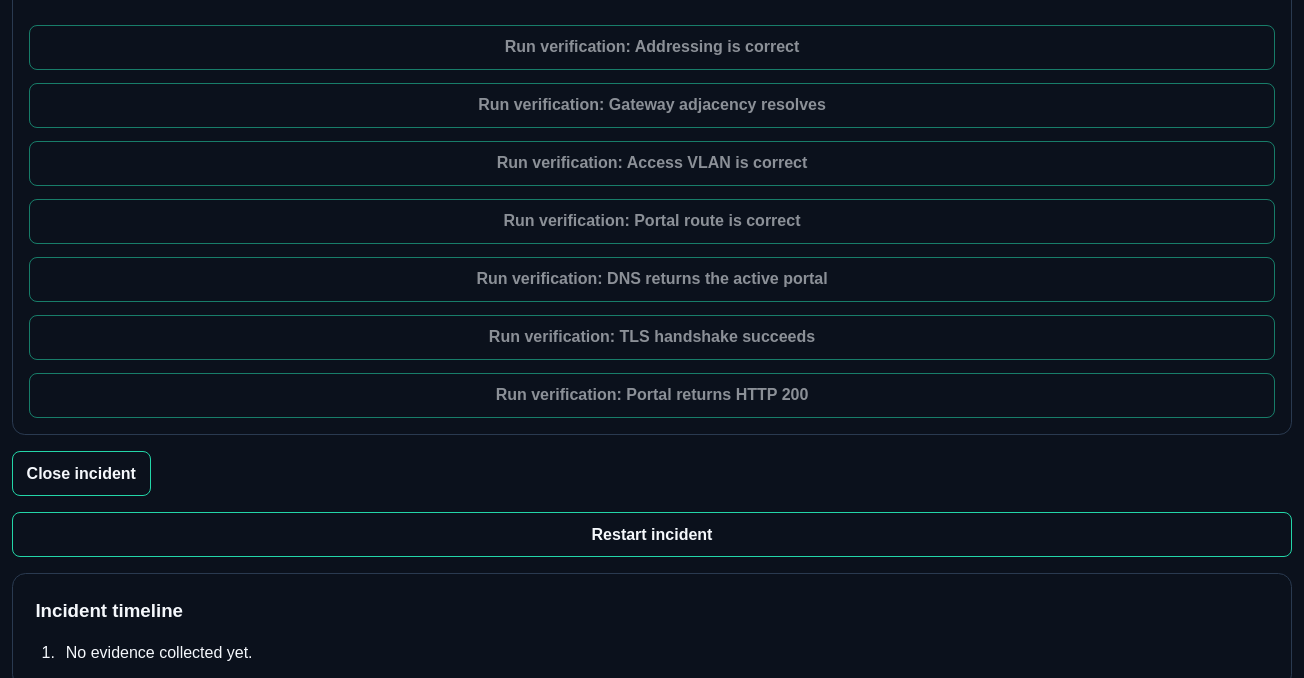
TroubleshootingWorkspace › restarts only the incident without resetting lesson quiz completion
(page scrolled)
Step 1. Click the button "Restart incident" → [652, 535], box 12,512 -> 1292,557
(page scrolled)
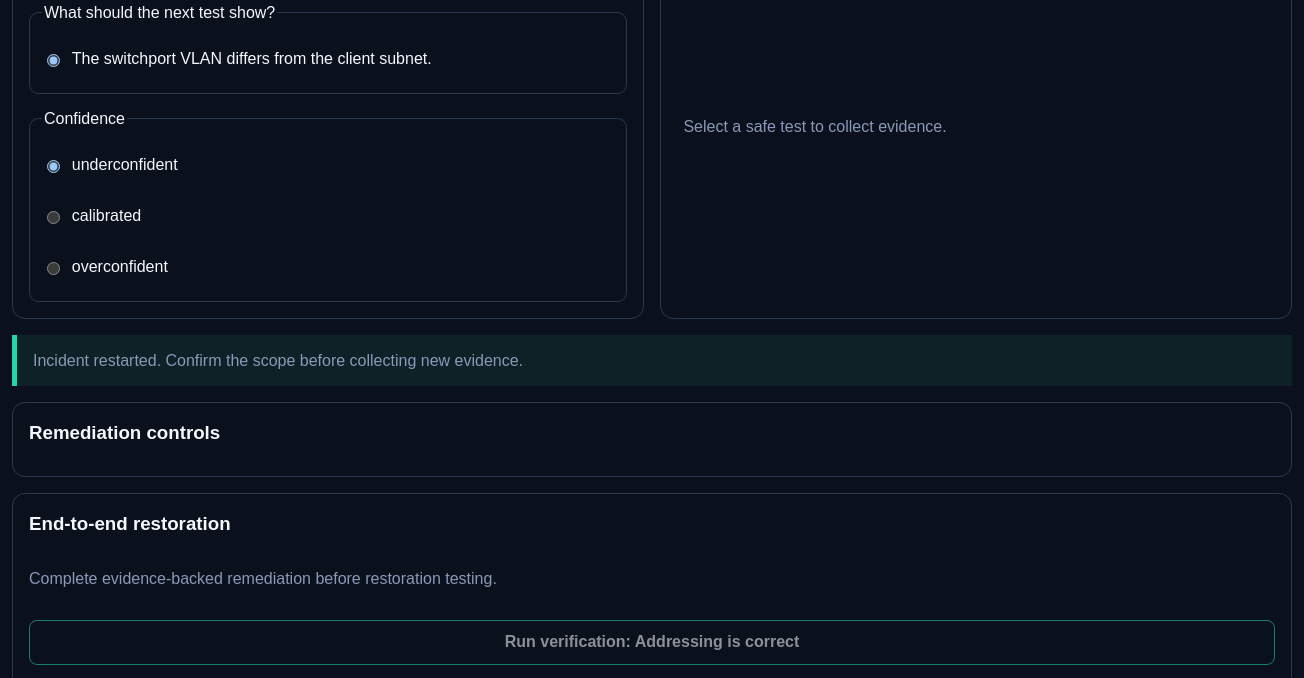
Result: the message shows "Incident restarted" at 33,352 -> 523,369
